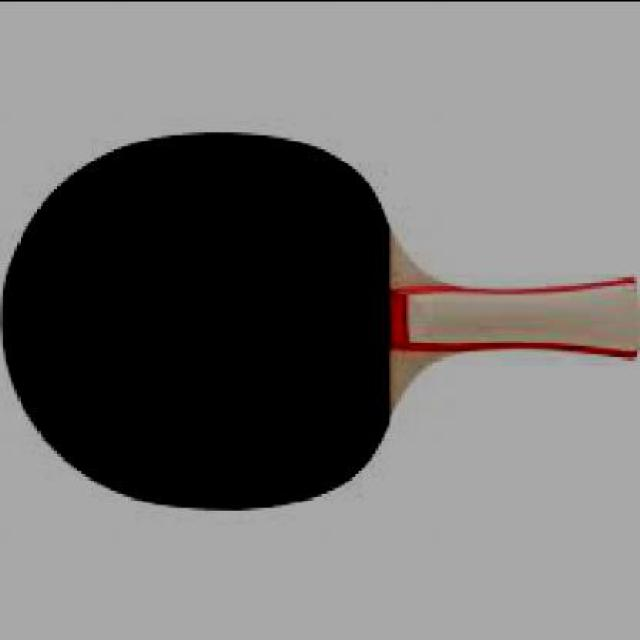table_tennis_racket: (0, 130, 428, 516)
